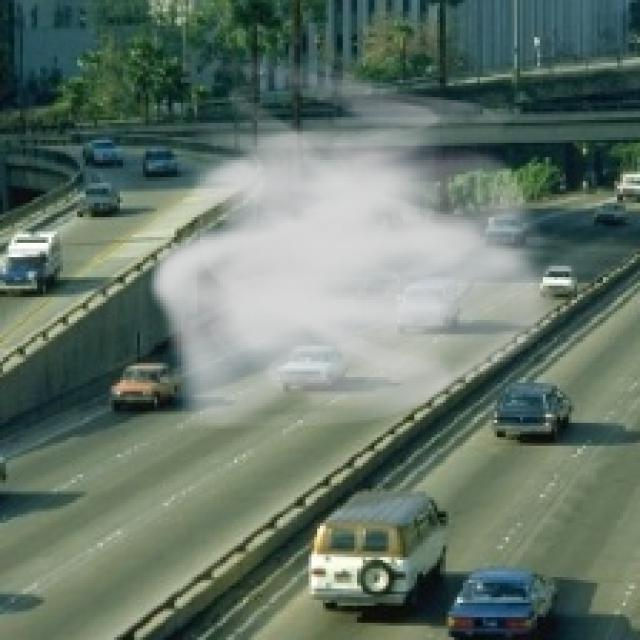smoke: (146, 51, 568, 440)
